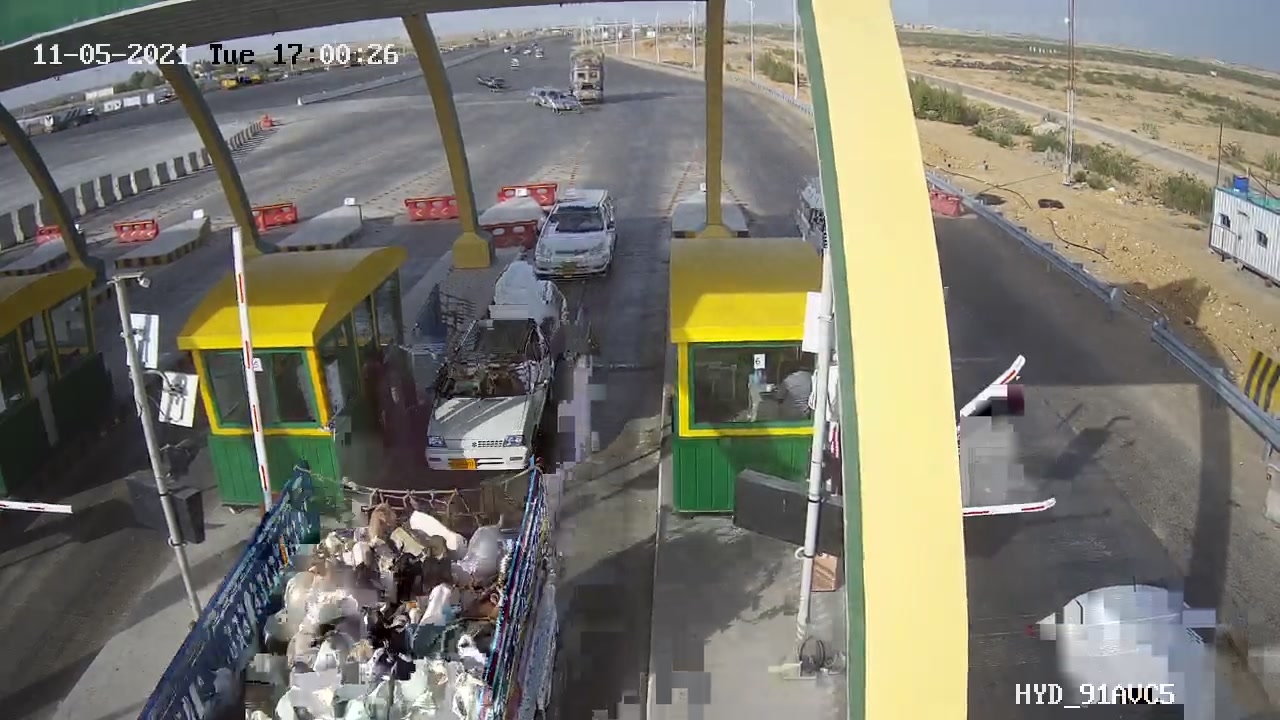F1: (420, 305, 570, 483)
